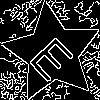E: (27, 28, 84, 84)
